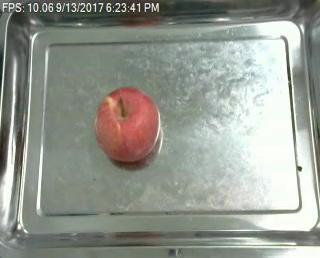apple: (95, 87, 160, 161)
